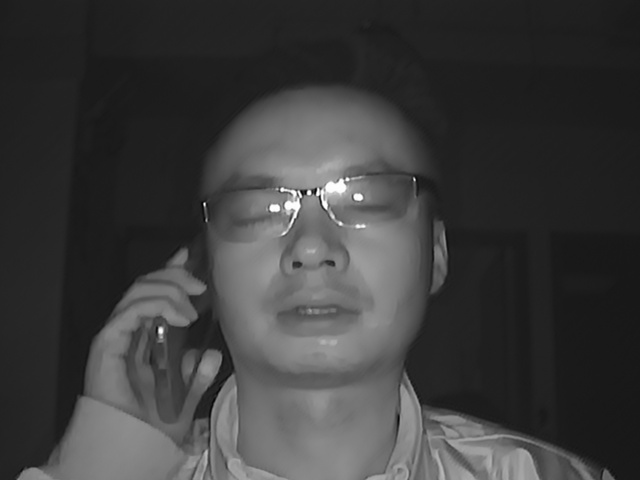hand: (94, 258, 219, 420)
